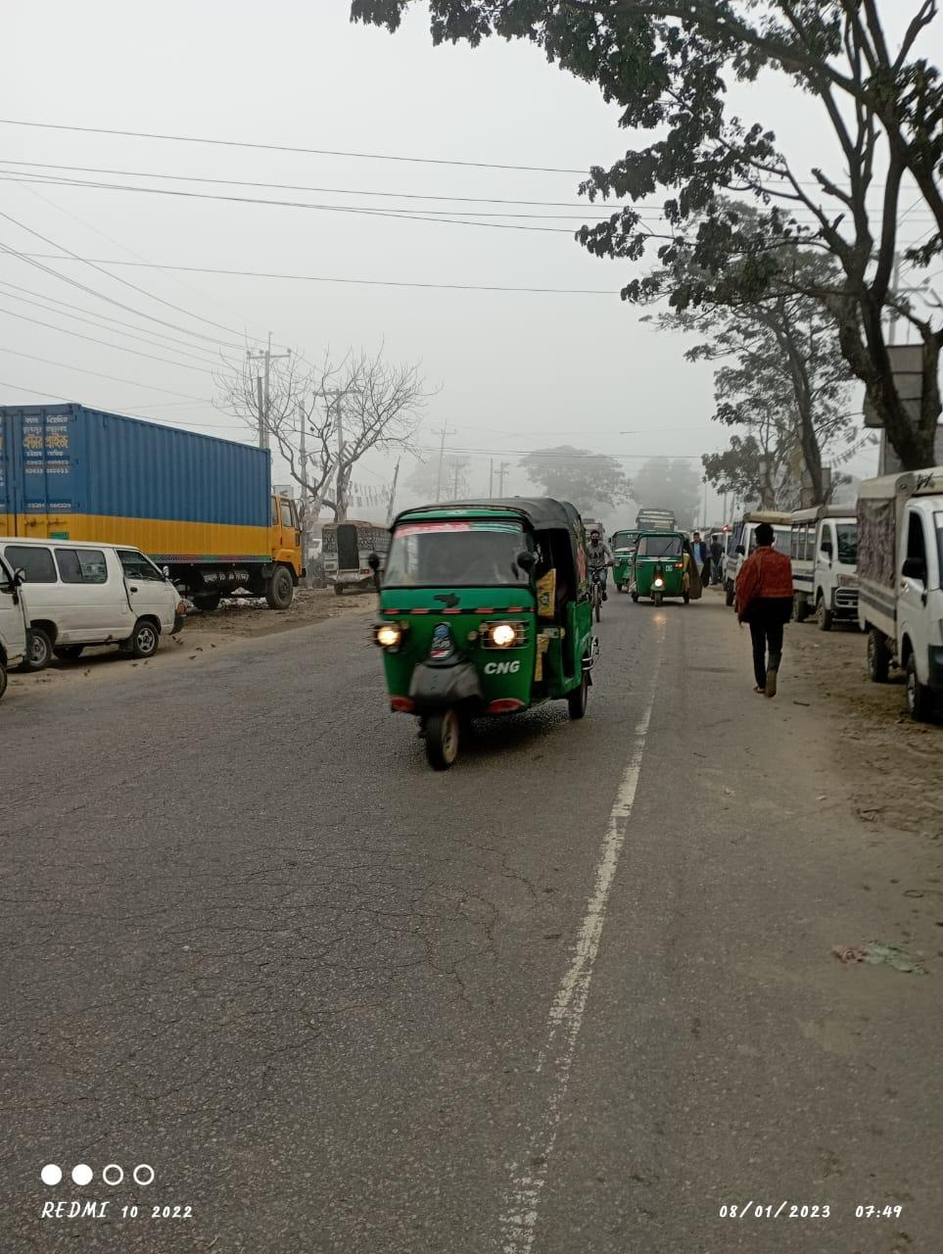Car: (8, 529, 198, 667), (317, 512, 384, 599)
Truck: (12, 384, 309, 612)
